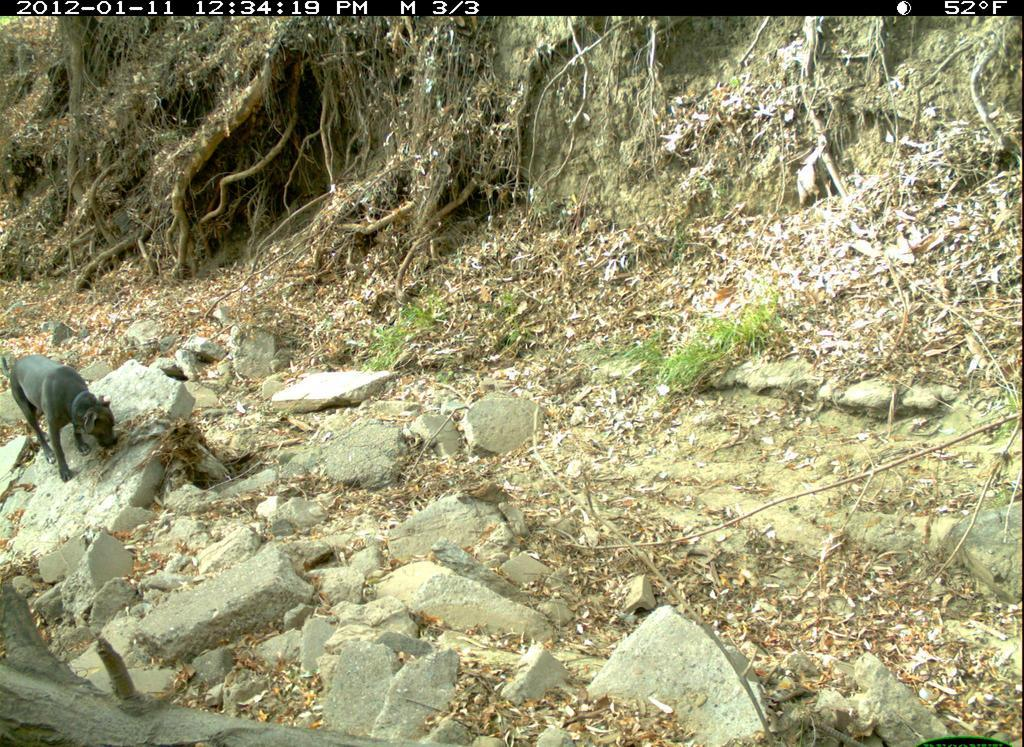dog: (3, 344, 127, 492)
